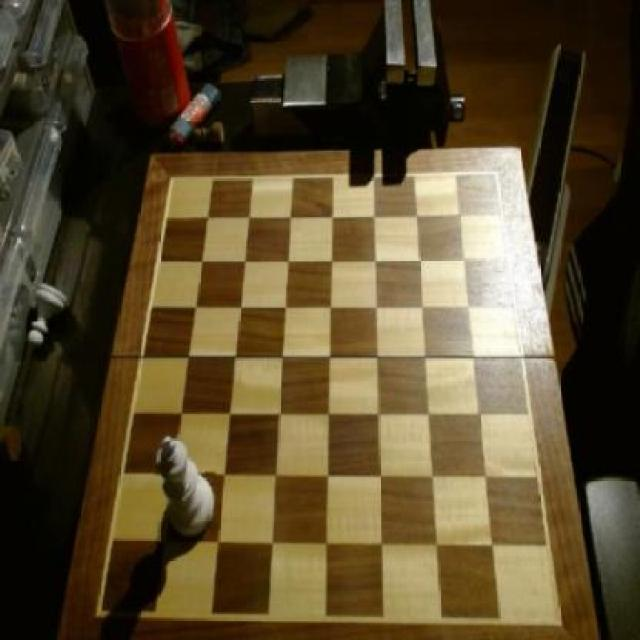white-bishop: (154, 435, 217, 544)
